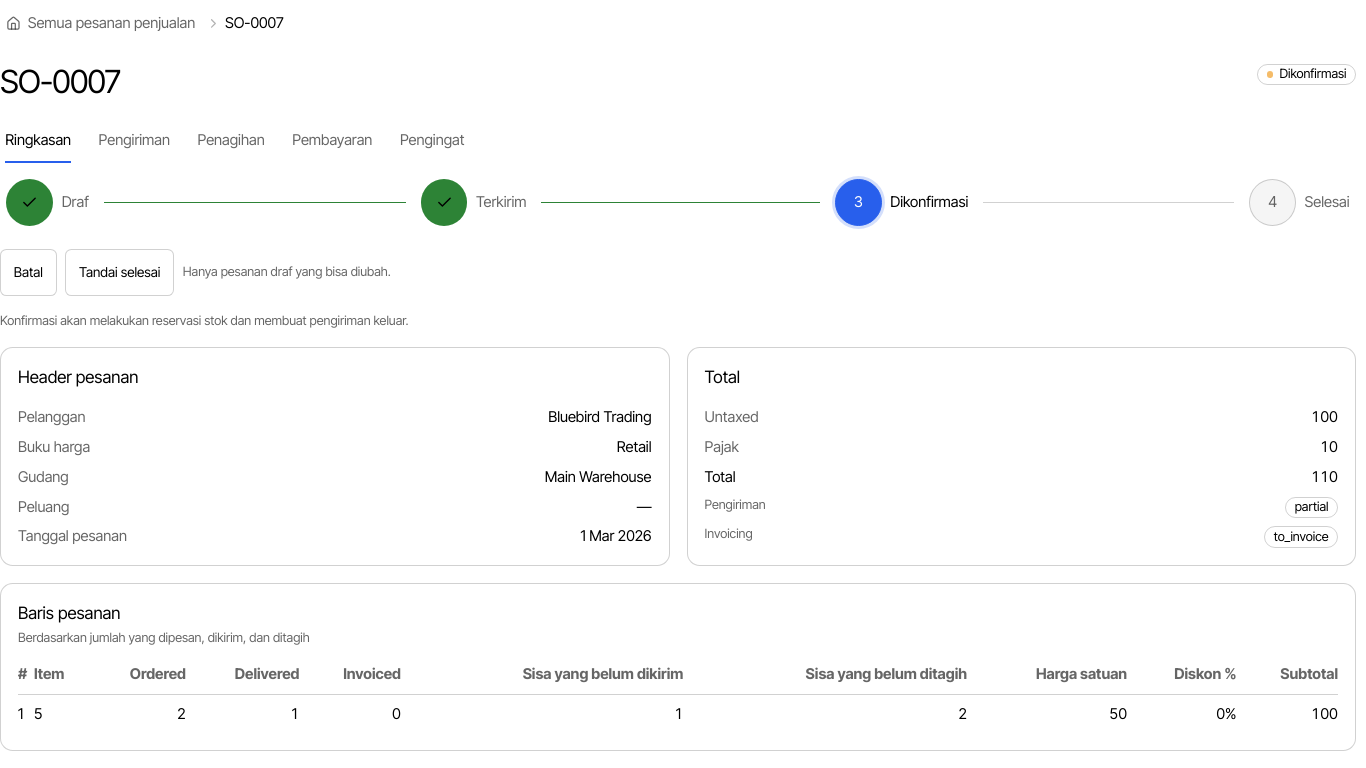
Test: SaleOrderDetail branches4 › cancels the deliver dialog
The width and height of the screenshot is (1366, 768).
Step 1. Click the tab "Pengiriman" → {"x": 134, "y": 141}, box top-left (98, 117), bottom-right (171, 164)
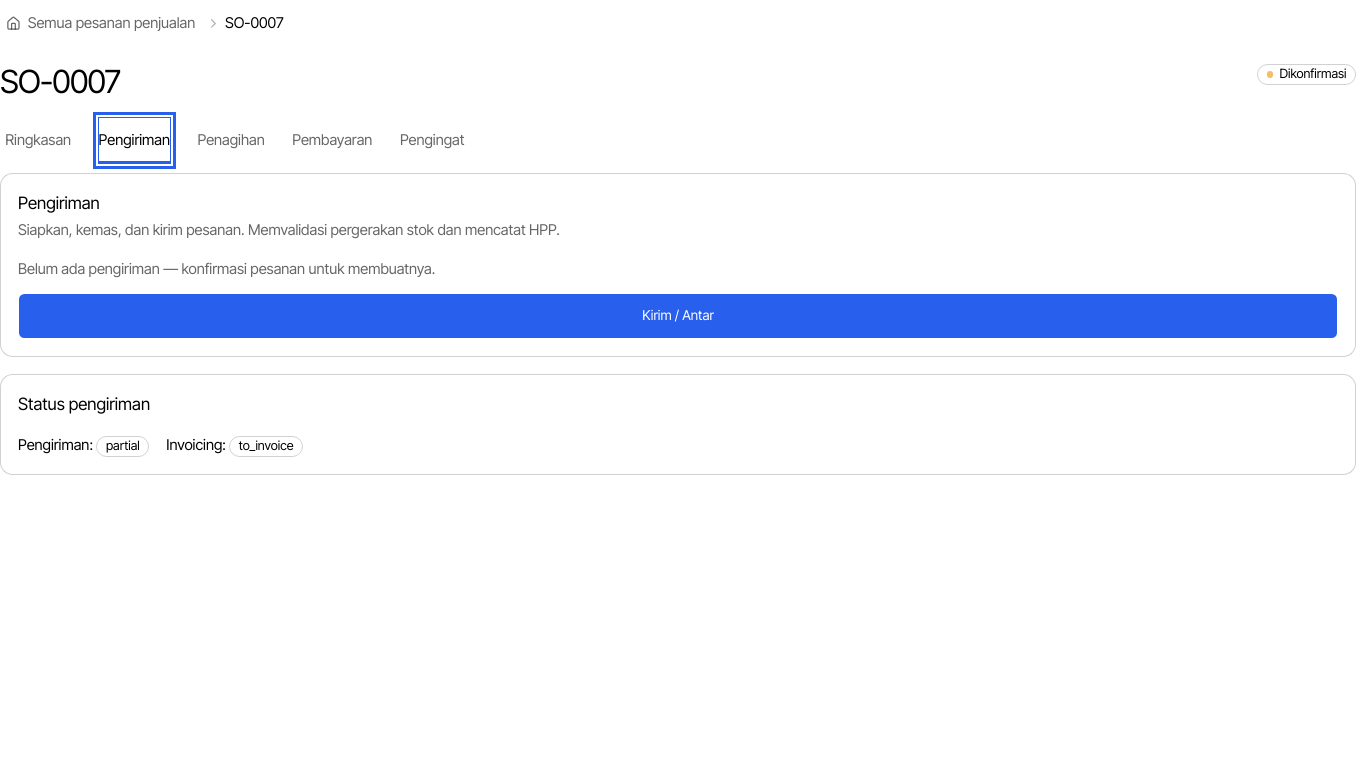
Step 2. Click the button "Kirim / Antar" → {"x": 678, "y": 316}, box top-left (18, 293), bottom-right (1338, 340)
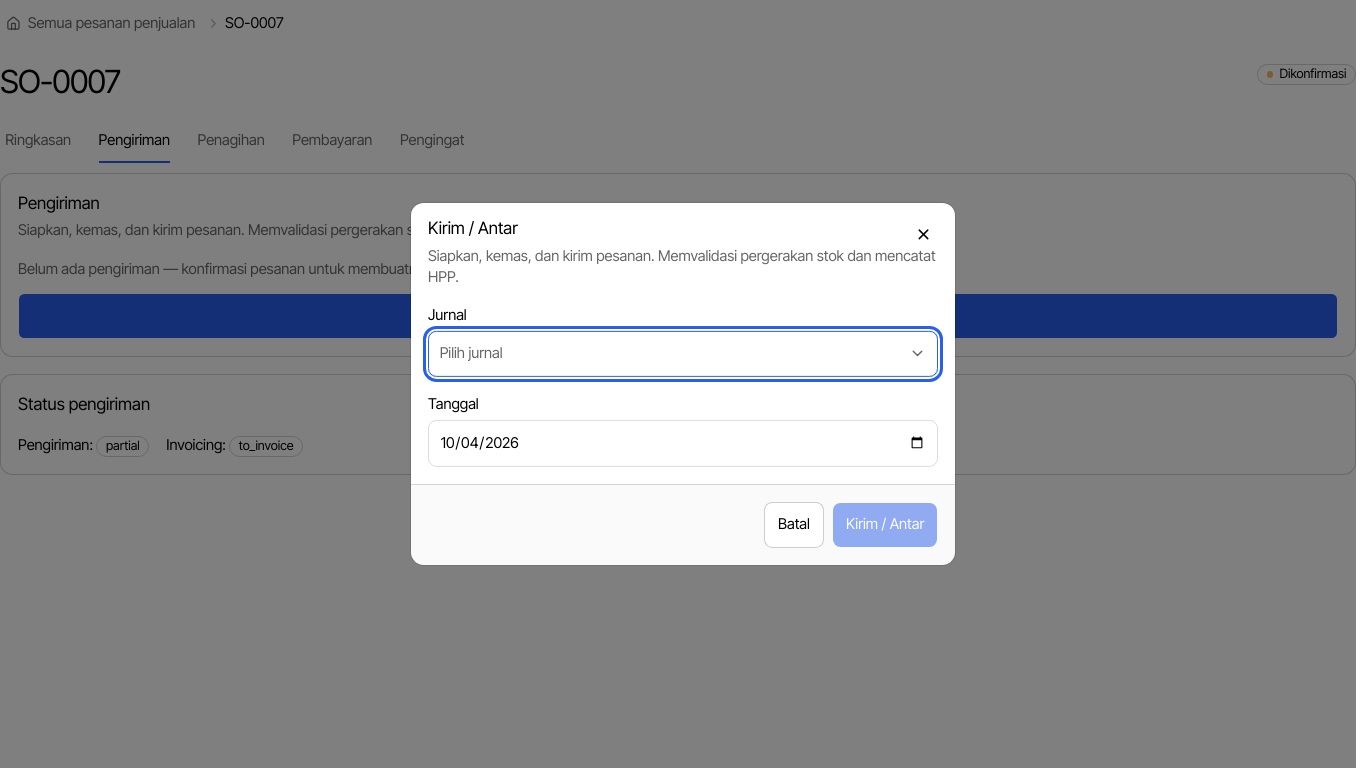
Step 3. Click the button "Batal" → {"x": 794, "y": 525}, box top-left (764, 501), bottom-right (824, 548)
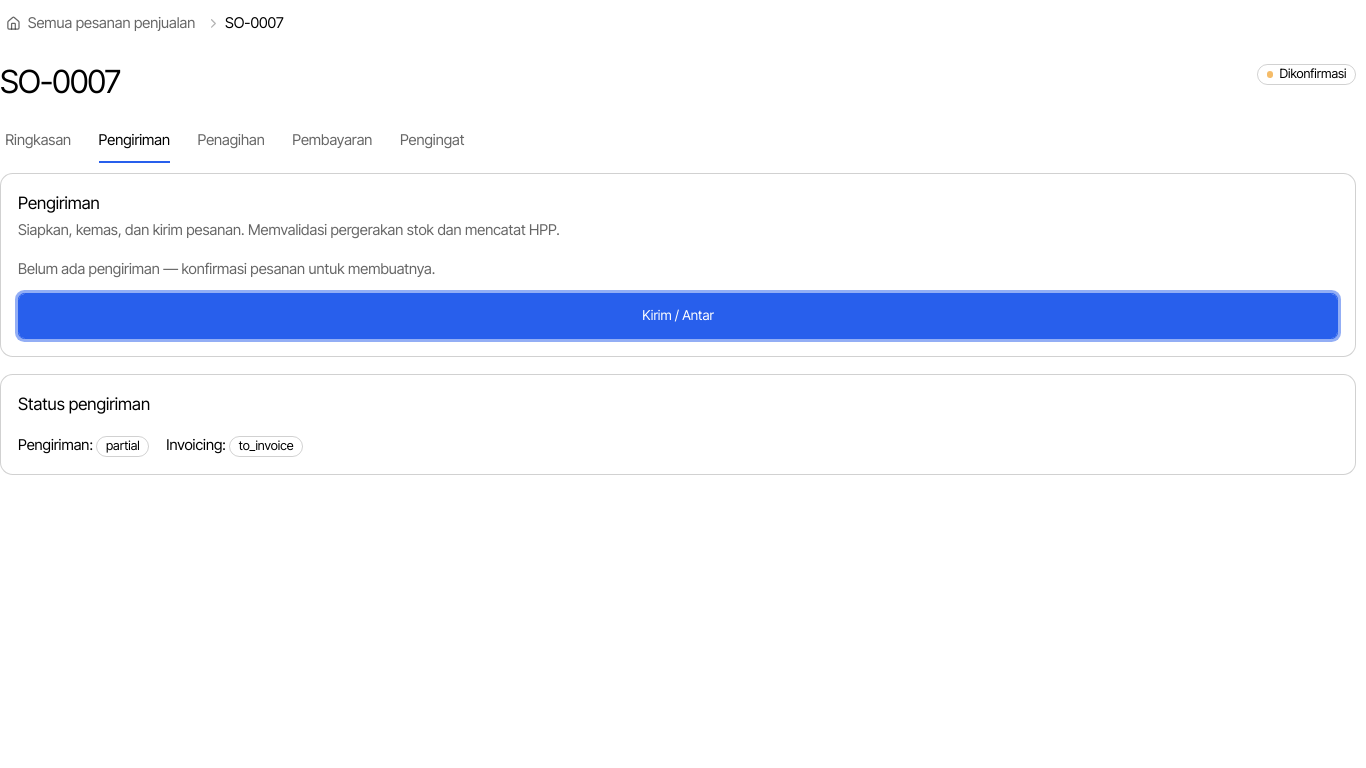
Expected: the dialog is gone
